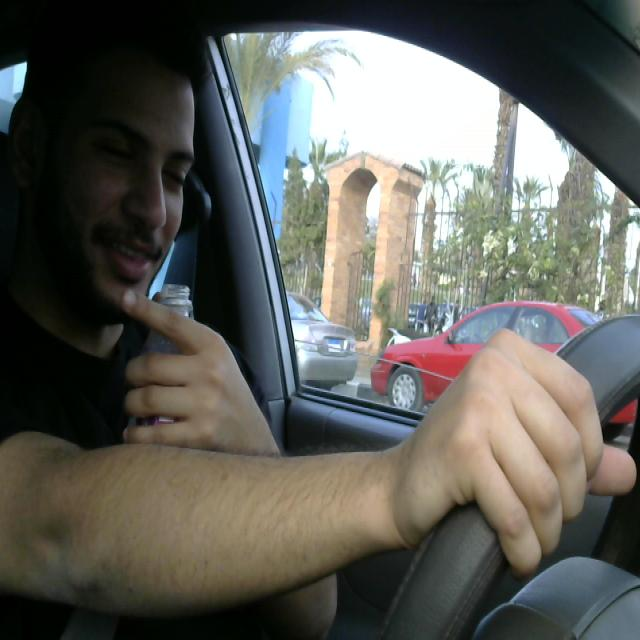drinking: (128, 287, 206, 515)
